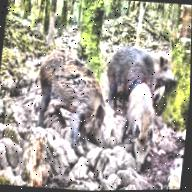boar: (24, 31, 135, 148)
